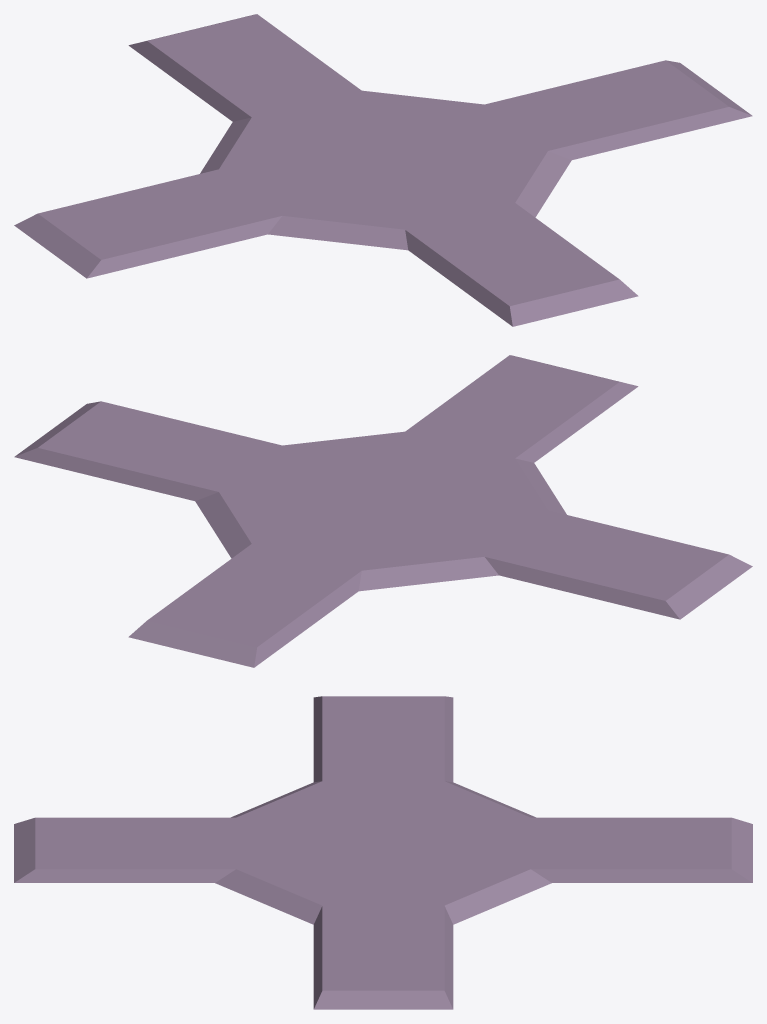
Rendered from LobbyWalkway.fbx.
The picture shows the model from 3 angles, top to bottom: view 1: azimuth 30°, elevation 25°; view 2: azimuth 150°, elevation 25°; view 3: azimuth 270°, elevation 25°; orthographic projection. The views are drawn at different scales.
Visible parts, largest first — view 1: pCylinder1; view 2: pCylinder1; view 3: pCylinder1.
Boxes of the visible parts, <box> form: pCylinder1: <box>14,14,752,326</box>; pCylinder1: <box>14,355,752,667</box>; pCylinder1: <box>14,696,752,1009</box>.
Size of the model in its own units: 1085 by 16.54 by 1085.
